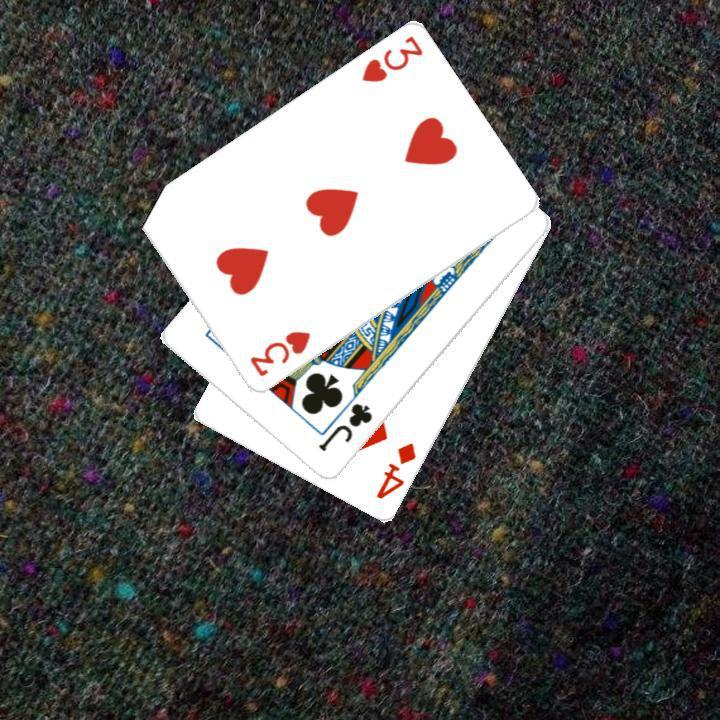3: (245, 327, 313, 380), (357, 32, 425, 85)
4: (372, 438, 419, 502)
J: (314, 399, 375, 454)
